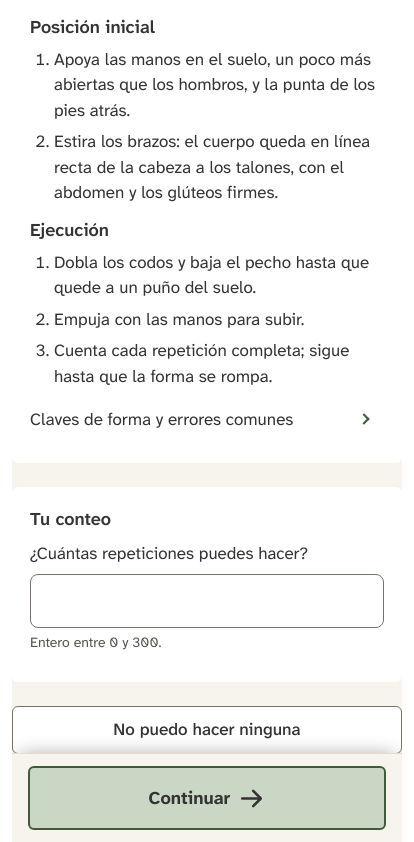
Pagina de evaluacion push - "No puedo hacer ninguna" › no navega: pone el campo en 0, anuncia y enfoca Continuar
The image size is (414, 842).
(page scrolled)
Click the button "No puedo hacer ninguna" at (207,730), box [12,706,402,754]
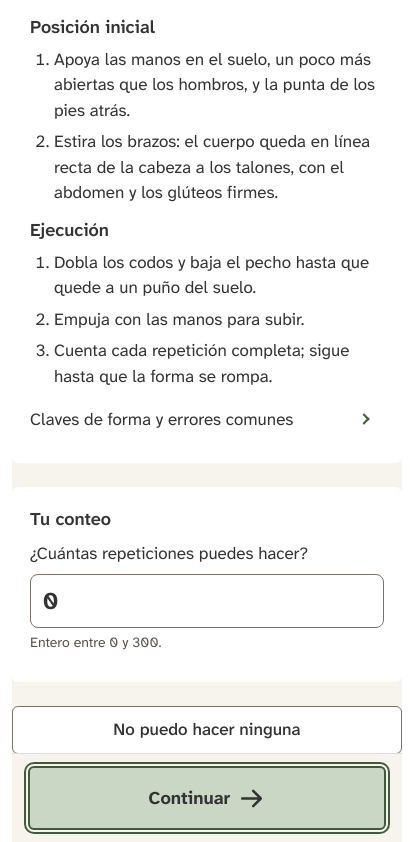
expect the field with id "reps-input" holds "0": met, box [30,574,384,628]
